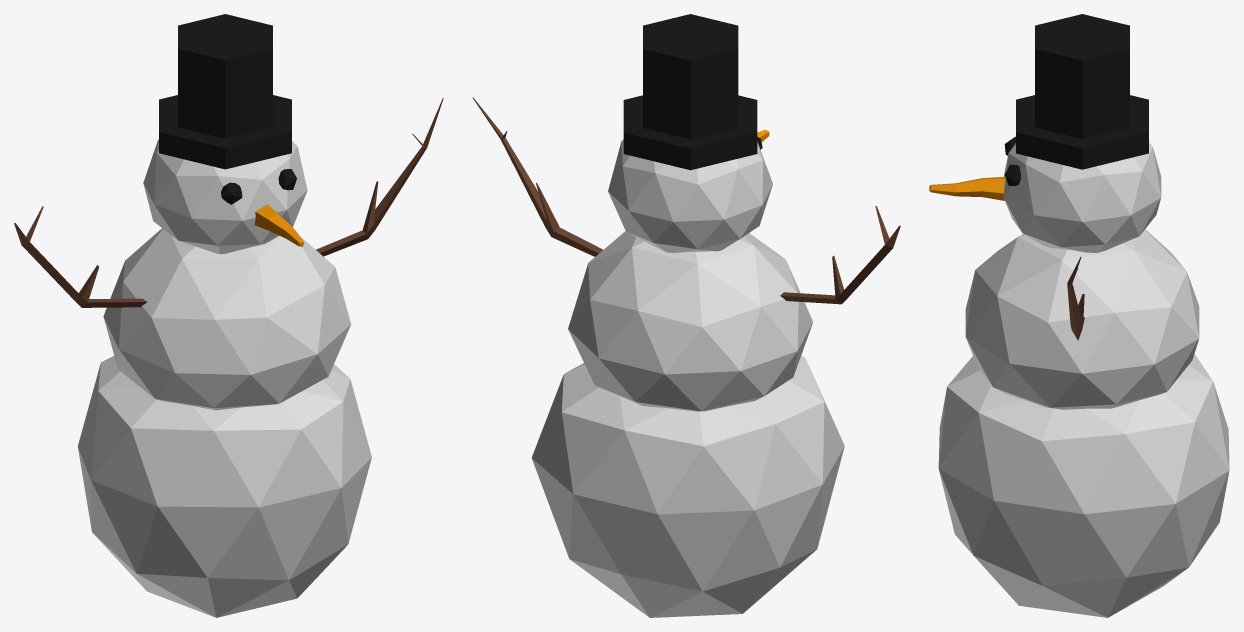
Rendered from Snowman.fbx.
3 views of the same model, side by side, from view 1: azimuth 30°, elevation 25°; view 2: azimuth 150°, elevation 25°; view 3: azimuth 270°, elevation 25° (orthographic).
Visible parts, largest first — view 1: Icosphere.002, Icosphere.003; view 2: Icosphere.002; view 3: Icosphere.002.
Boxes of the visible parts, <box> form: Icosphere.002: <box>14,14,443,617</box>; Icosphere.003: <box>221,169,296,204</box>; Icosphere.002: <box>472,14,900,617</box>; Icosphere.002: <box>929,14,1229,617</box>.
Bounding box in the file's own units: 373 × 476 × 226.
